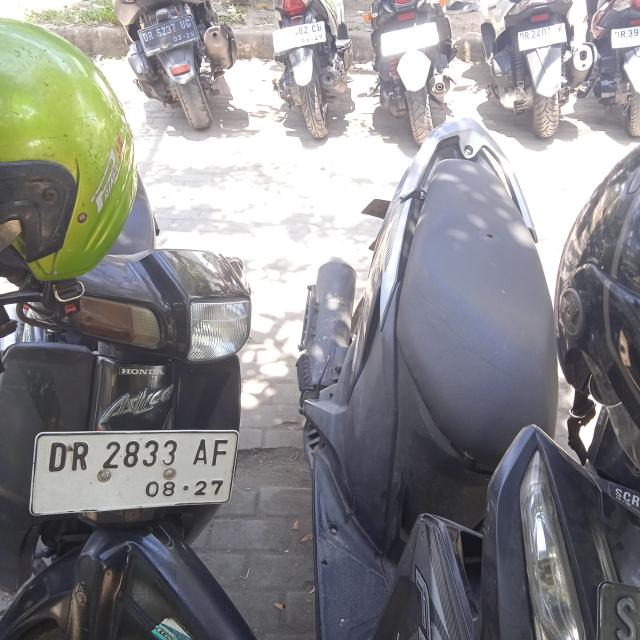plate: (32, 423, 240, 514), (138, 14, 201, 57)
